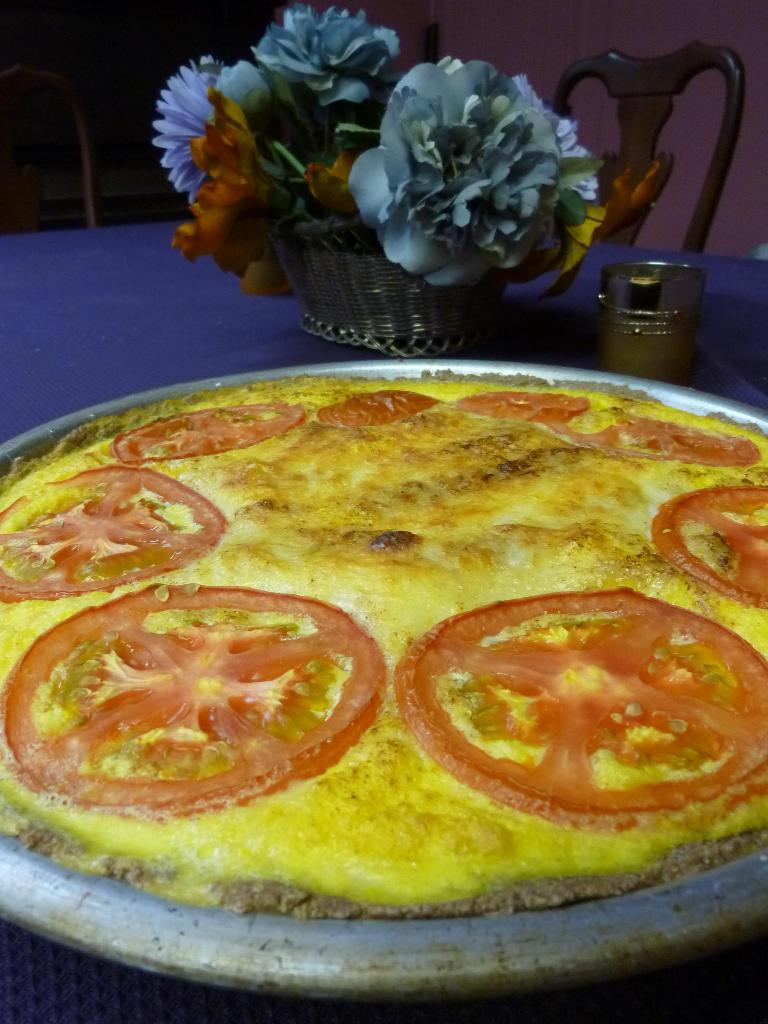Pizza: (0, 364, 767, 928)
